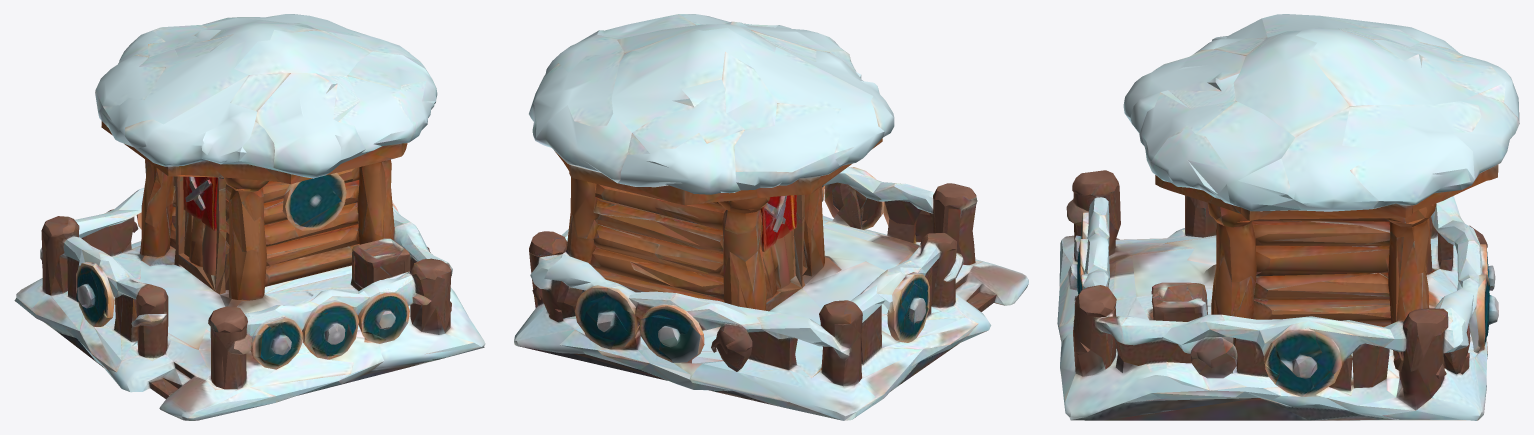
Rendered from barracks.glb.
The picture shows the model from 3 angles, left to right: view 1: azimuth 30°, elevation 25°; view 2: azimuth 150°, elevation 25°; view 3: azimuth 270°, elevation 25°; orthographic projection. The views are drawn at different scales.
Size of the model in its own units: 1.9 by 1.39 by 1.84.
Materials: 1 (1 with a texture image).
